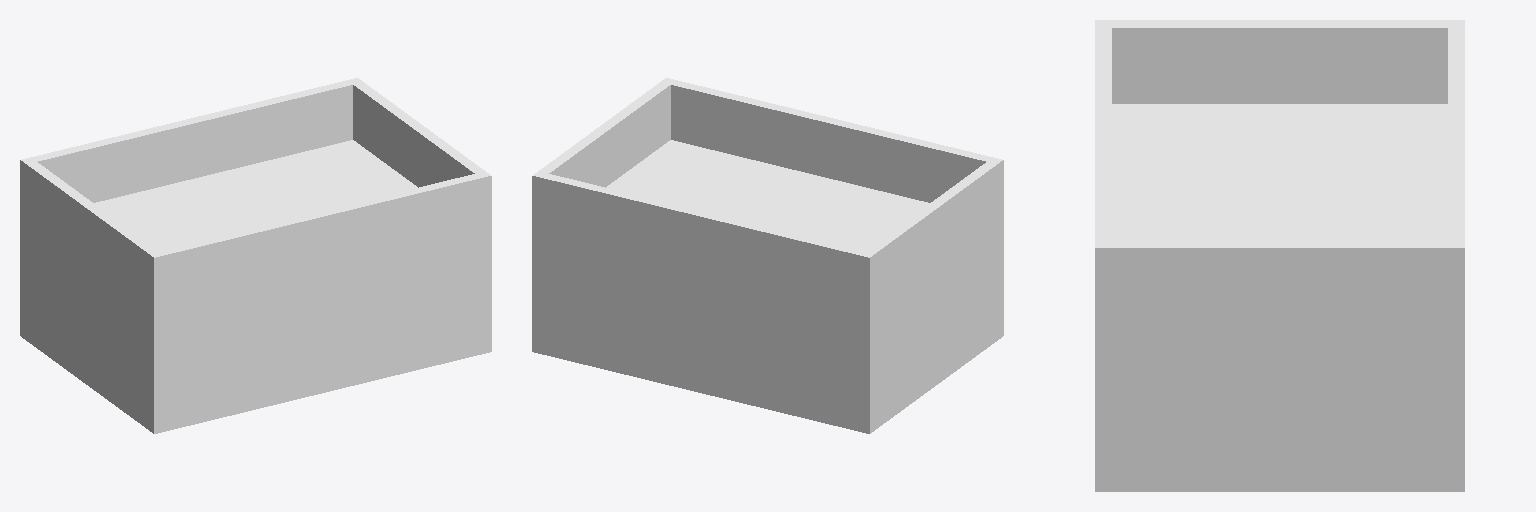
robot.urdf — tank:
<?xml version="1.0" ?>
<!-- =================================================================================== -->
<!-- |    This document was autogenerated by xacro from tank_depth.xacro               | -->
<!-- |    EDITING THIS FILE BY HAND IS NOT RECOMMENDED                                 | -->
<!-- =================================================================================== -->
<robot name="tank" xmlns:xacro="http://ros.org/wiki/xacro">
  <material name="transparent">
    <color rgba="1 1 1 0.4"/>
  </material>
  <link name="tank_base_link">
    <visual>
      <origin rpy="0 0 0" xyz="1.4 1.2 0"/>
      <geometry>
        <mesh filename="package://underwater_sim/models/meshes/tank/tank.dae" scale="0.001 0.001 0.001"/>
      </geometry>
      <material name="transparent"/>
    </visual>
    <collision name="base_link_collision">
      <origin rpy="0 0 0" xyz="1.4 1.2 0"/>
      <geometry>
        <mesh filename="package://underwater_sim/models/meshes/tank/tank.dae" scale="0.001 0.001 0.001"/>
      </geometry>
    </collision>
    <inertial>
      <mass value="95.78"/>
      <inertia ixx="57.28" ixy="0.00" ixz="-0.23" iyy="57.28" iyz="0.00" izz="6.09"/>
    </inertial>
  </link>
  <link name="tank_water_link">
    <visual>
      <origin rpy="0 0 0" xyz="1.4 1.2 0"/>
      <geometry>
        <mesh filename="package://underwater_sim/models/meshes/tank/tank_water.dae" scale="0.001 0.001 0.001"/>
      </geometry>
      <material name="transparent"/>
    </visual>
    <collision name="base_link_collision">
      <origin rpy="0 0 0" xyz="1.4 1.2 0"/>
      <geometry>
        <mesh filename="package://underwater_sim/models/meshes/tank/tank_water.dae" scale="0.001 0.001 0.001"/>
      </geometry>
    </collision>
    <inertial>
      <mass value="95.78"/>
      <inertia ixx="57.28" ixy="0.00" ixz="-0.23" iyy="57.28" iyz="0.00" izz="6.09"/>
    </inertial>
  </link>
  <joint name="tank_joint" type="fixed">
    <origin xyz="0 0 0"/>
    <parent link="tank_base_link"/>
    <child link="tank_water_link"/>
  </joint>
  <gazebo reference="tank_water_link">
    <visual name="visual">
      <material>
        <lighting>1</lighting>
        <script>
          <uri>file:/[local-path]/scripts/gazebo.material</uri>
          <name>Gazebo/Grey</name>
        </script>
        <ambient>0.3 0.3 0.3 0.4</ambient>
        <diffuse>0.7 0.7 0.7 0.4</diffuse>
        <specular>0.01 0.01 0.01 0.4</specular>
        <emissive>0 0 0 0.4</emissive>
        <shader type="vertex">
          <normal_map>__default__</normal_map>
        </shader>
      </material>
      <cast_shadows>1</cast_shadows>
      <transparency>0.7</transparency>
    </visual>
  </gazebo>
</robot>

--- Render facts (derived) ---
The picture shows the robot from 3 angles, left to right: view 1: azimuth 30°, elevation 25°; view 2: azimuth 150°, elevation 25°; view 3: azimuth 270°, elevation 25°; orthographic projection.
Robot: tank — 2 links, 1 joints (1 fixed); root link tank_base_link; default pose: every joint at zero.
Visible links, largest first — view 1: tank_base_link, tank_water_link; view 2: tank_base_link, tank_water_link; view 3: tank_base_link, tank_water_link.
Boxes of the visible links, x1,y1,x2,y2 form: tank_base_link: [20, 78, 491, 433]; tank_water_link: [94, 140, 417, 250]; tank_base_link: [532, 78, 1003, 433]; tank_water_link: [606, 140, 929, 250]; tank_base_link: [1095, 20, 1464, 491]; tank_water_link: [1112, 104, 1447, 240].
Bounding box of the posed robot: 3.2 × 2.2 × 1.6 m (x, y, z).
Meshes: 2 distinct files referenced, 2 mesh visuals loaded (2 Collada DAE).